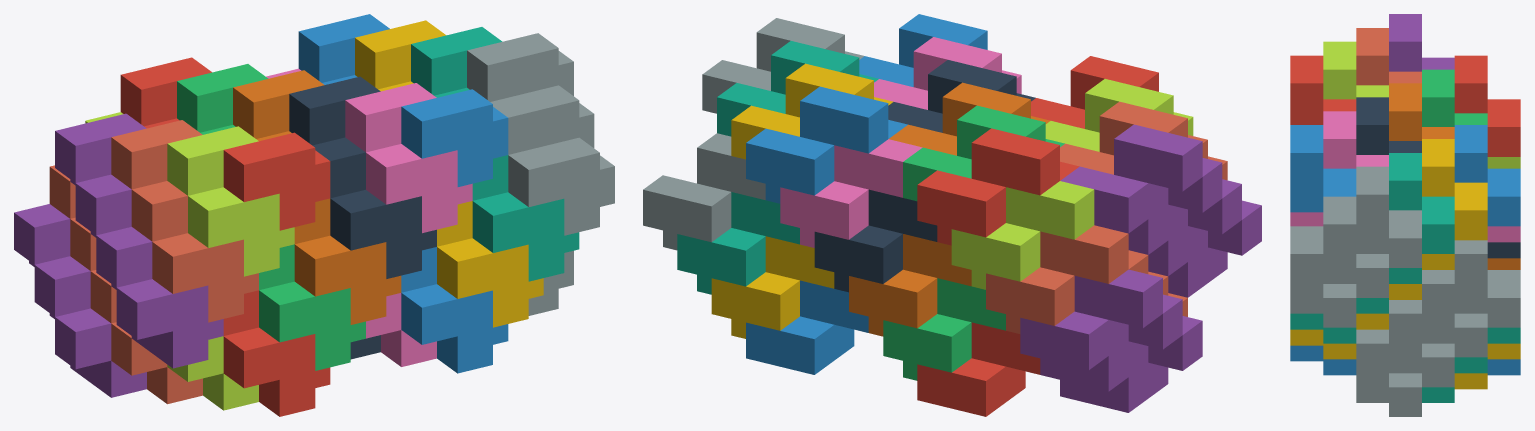
Rendered from tiling.obj.
3 renders of one model, left to right at view 1: azimuth 30°, elevation 25°; view 2: azimuth 150°, elevation 25°; view 3: azimuth 270°, elevation 25°, orthographic. The views are drawn at different scales.
Parts seen in each view (by area): view 1: copy_85, copy_86, copy_82, copy_77, copy_73, copy_74, copy_78, copy_79, copy_75, copy_76, copy_83, copy_80 (+36 smaller); view 2: copy_13, copy_14, copy_41, copy_5, copy_11, copy_8, copy_10, copy_12, copy_1, copy_2, copy_4, copy_9 (+20 smaller); view 3: copy_58, copy_82, copy_10, copy_70, copy_14, copy_13, copy_86, copy_22, copy_34, copy_28, copy_46, copy_43 (+27 smaller).
Part boxes in pixels (x1,y1,x2,y2): copy_85: [223, 132, 330, 230]; copy_86: [401, 89, 508, 186]; copy_82: [508, 137, 614, 235]; copy_77: [116, 279, 223, 368]; copy_73: [223, 327, 330, 416]; copy_74: [401, 284, 508, 373]; copy_78: [294, 235, 401, 324]; copy_79: [472, 192, 579, 281]; copy_75: [259, 281, 365, 370]; copy_76: [437, 238, 543, 327]; copy_83: [188, 187, 294, 276]; copy_80: [152, 233, 258, 322]; copy_13: [917, 128, 1059, 237]; copy_14: [746, 86, 888, 195]; copy_41: [1060, 124, 1202, 233]; copy_5: [1020, 269, 1162, 370]; copy_11: [951, 181, 1094, 281]; copy_8: [986, 225, 1128, 325]; copy_10: [643, 133, 765, 242]; copy_12: [780, 139, 922, 239]; copy_1: [917, 322, 1040, 416]; copy_2: [746, 280, 868, 374]; copy_4: [711, 236, 834, 330]; copy_9: [814, 189, 937, 283]; copy_58: [1356, 166, 1421, 267]; copy_82: [1290, 226, 1356, 327]; copy_10: [1454, 240, 1520, 327]; copy_70: [1323, 196, 1388, 297]; copy_14: [1454, 125, 1520, 226]; copy_13: [1454, 55, 1520, 156]; copy_86: [1290, 125, 1356, 212]; copy_22: [1422, 270, 1487, 357]; copy_34: [1389, 300, 1454, 387]; copy_28: [1422, 139, 1487, 240]; copy_46: [1356, 329, 1421, 416]; copy_43: [1389, 153, 1454, 253].
Size of the model in its own units: 14 by 7 by 7.
